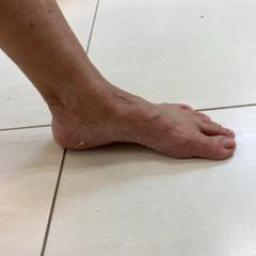Medial View -Left Foot-: (16, 56, 246, 184)
